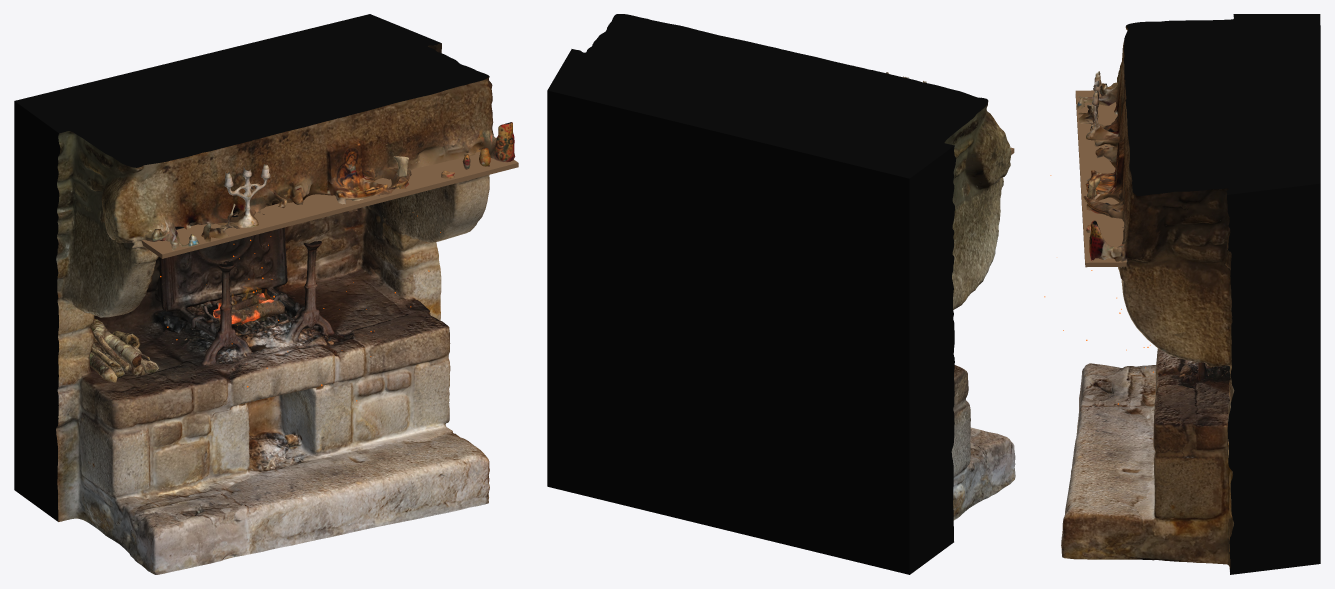
The model's file is RusticFireplace.glb.
3 views of the same model, side by side, from view 1: azimuth 30°, elevation 25°; view 2: azimuth 150°, elevation 25°; view 3: azimuth 270°, elevation 25° (orthographic). The views are drawn at different scales.
Parts seen in each view (by area): view 1: fireplace, back_cover, plank, logs_stack, burning_logs; view 2: back_cover, fireplace; view 3: back_cover, fireplace, plank.
Part boxes in pixels (x1,y1,x2,y2): fireplace: (56, 43, 515, 574); back_cover: (14, 14, 489, 521); plank: (141, 151, 518, 258); logs_stack: (89, 318, 158, 382); burning_logs: (213, 293, 284, 324); back_cover: (547, 14, 988, 574); fireplace: (858, 67, 1015, 520); back_cover: (1123, 14, 1320, 574); fireplace: (1061, 26, 1234, 569); plank: (1075, 90, 1126, 267).
Bounding box in the file's own units: 2.47 × 2.38 × 1.57.
Materials: 9 (6 with a texture image).
